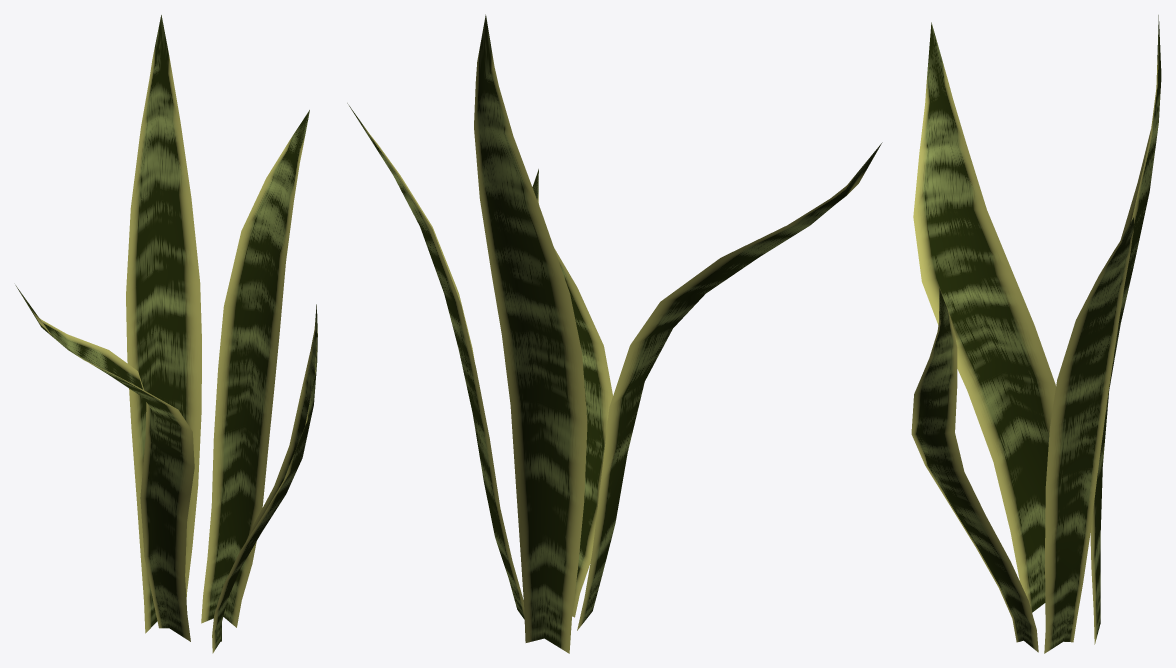
File: VEG0410020.fbx
3 views of the same model, side by side, from view 1: azimuth 30°, elevation 25°; view 2: azimuth 150°, elevation 25°; view 3: azimuth 270°, elevation 25° (orthographic). The views are drawn at different scales.
Parts seen in each view (by area): view 1: smVEG0410020; view 2: smVEG0410020; view 3: smVEG0410020.
Boxes of the visible parts, <box> form: smVEG0410020: <box>15,15,317,653</box>; smVEG0410020: <box>347,14,882,653</box>; smVEG0410020: <box>911,15,1161,653</box>.
Size of the model in its own units: 135 by 194 by 69.19.
1 material, 1 textured.
